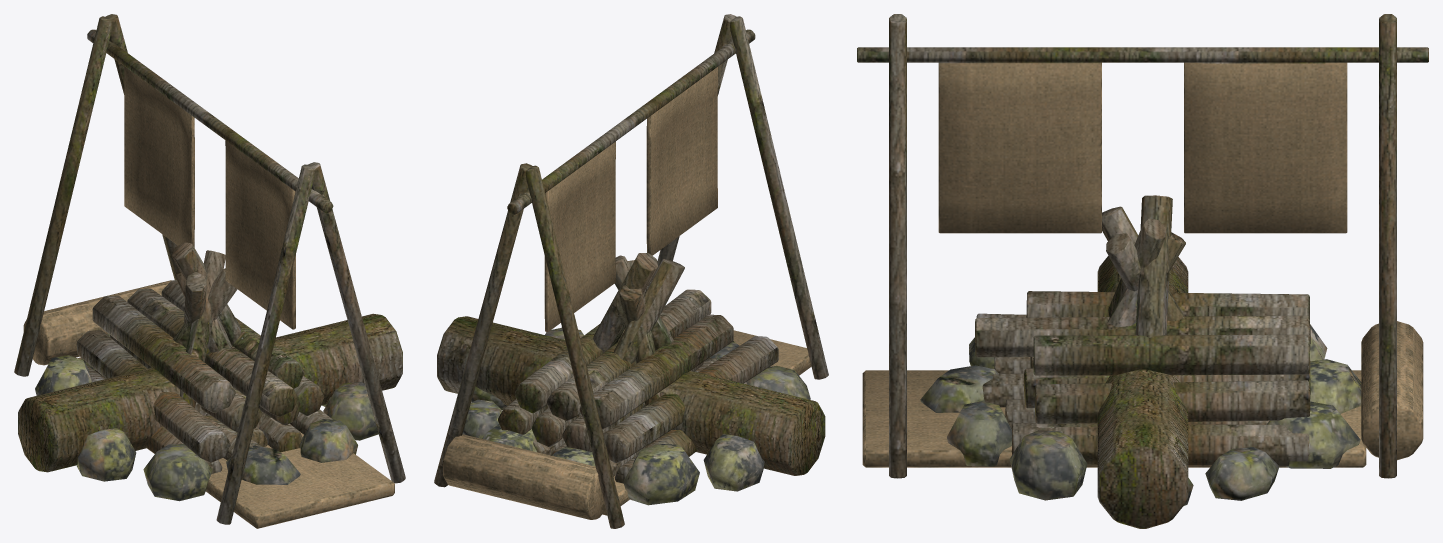
Rendered from WoodlandCamp.gltf.
3 views of the same model, side by side, from view 1: azimuth 30°, elevation 25°; view 2: azimuth 150°, elevation 25°; view 3: azimuth 270°, elevation 25° (orthographic). The views are drawn at different scales.
Visible parts, largest first — view 1: rack, firewoodPile, campfire, logSeat, bedroll; view 2: rack, firewoodPile, campfire, logSeat, bedroll; view 3: rack, firewoodPile, campfire, logSeat, bedroll.
Boxes of the visible parts, x1,y1,x2,y2 form: rack: (14,14,405,524); firewoodPile: (77,280,332,473); campfire: (35,242,378,501); logSeat: (18,313,402,472); bedroll: (23,280,394,528); rack: (434,14,828,528); firewoodPile: (498,289,778,483); campfire: (462,252,810,505); logSeat: (437,316,825,475); bedroll: (443,330,811,519); rack: (857,14,1428,478); firewoodPile: (975,291,1310,466); campfire: (920,195,1361,505); logSeat: (1097,256,1188,528); bedroll: (862,321,1423,467).
Size of the model in its own units: 2.12 by 1.96 by 2.48.
Materials: 1 (1 with a texture image).
